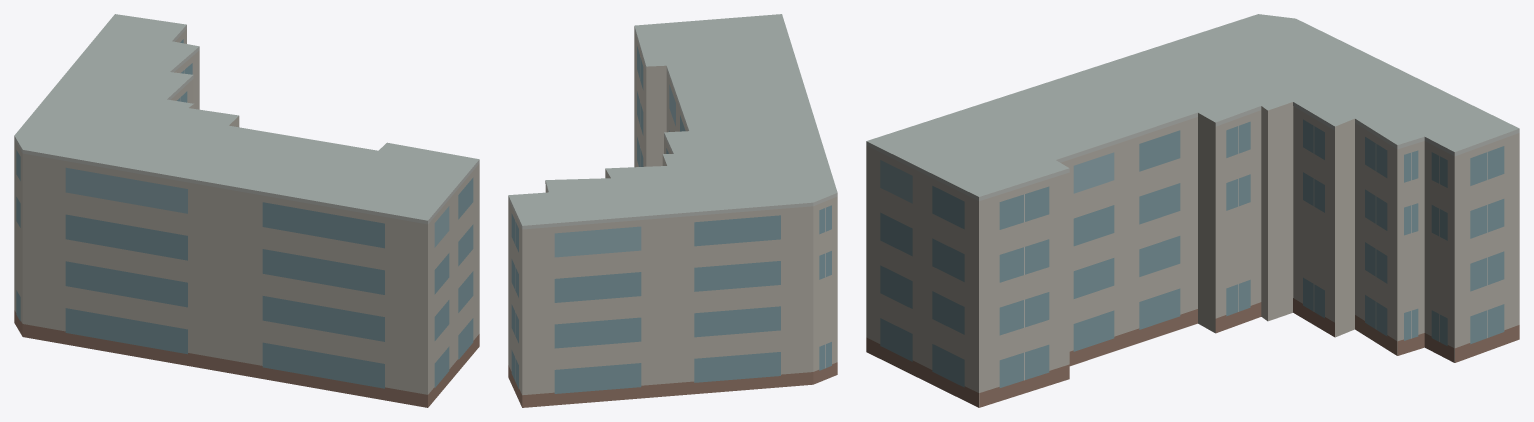
The model's file is survey-upis-32677902.glb.
The picture shows the model from 3 angles, left to right: view 1: azimuth 30°, elevation 25°; view 2: azimuth 150°, elevation 25°; view 3: azimuth 270°, elevation 25°; orthographic projection. The views are drawn at different scales.
Visible parts, largest first — view 1: survey-upis-32677902.tmp; view 2: survey-upis-32677902.tmp; view 3: survey-upis-32677902.tmp.
Boxes of the visible parts, x1,y1,x2,y2 form: survey-upis-32677902.tmp: [14, 14, 479, 407]; survey-upis-32677902.tmp: [508, 14, 837, 407]; survey-upis-32677902.tmp: [866, 14, 1519, 407].
Size of the model in its own units: 22.72 by 12.2 by 34.27.
